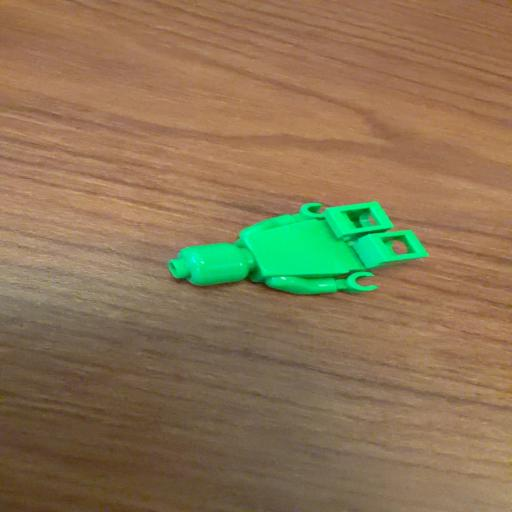UnoQ-minifig-detector: (170, 202, 427, 294)
